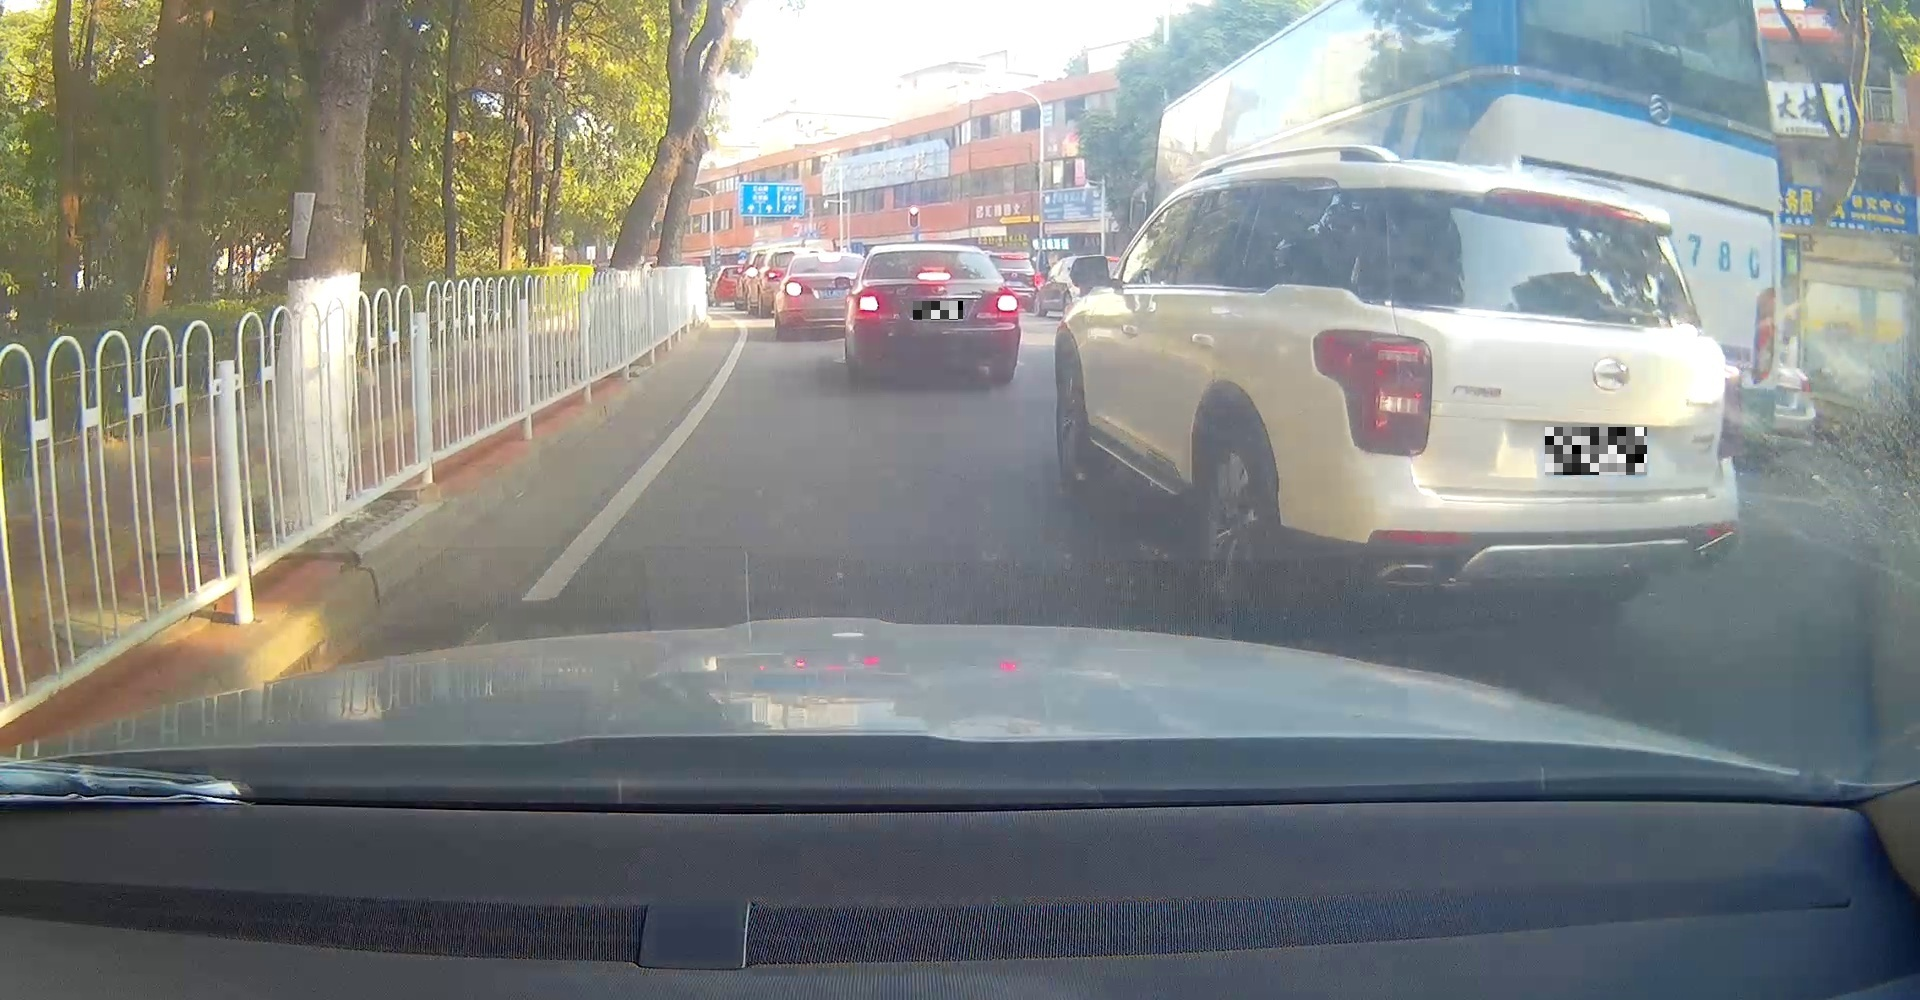L_light: (1310, 326, 1435, 459), (855, 292, 881, 313)
R_light: (1716, 359, 1745, 459), (994, 291, 1018, 313)
T_light: (1484, 187, 1650, 228), (916, 272, 951, 280)
day-brake: (853, 242, 1020, 382)
day-no: (1300, 159, 1749, 602)
plate_1: (913, 301, 963, 320)
plate_2: (1545, 426, 1647, 475)
